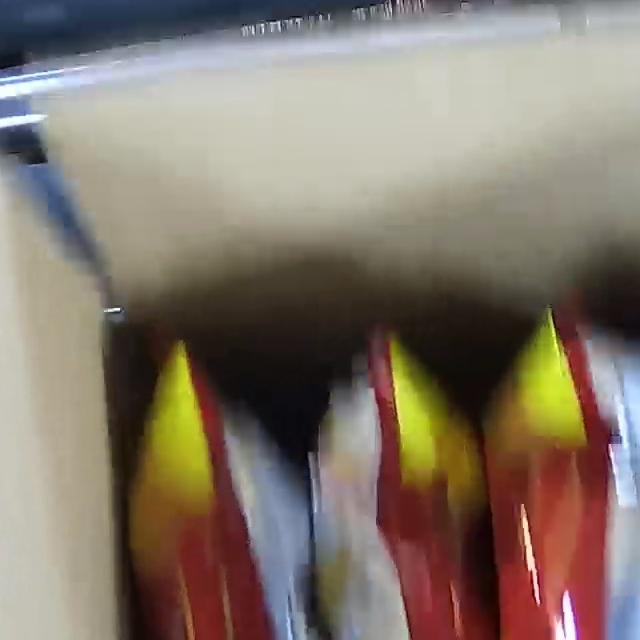masala: (100, 290, 640, 640)
